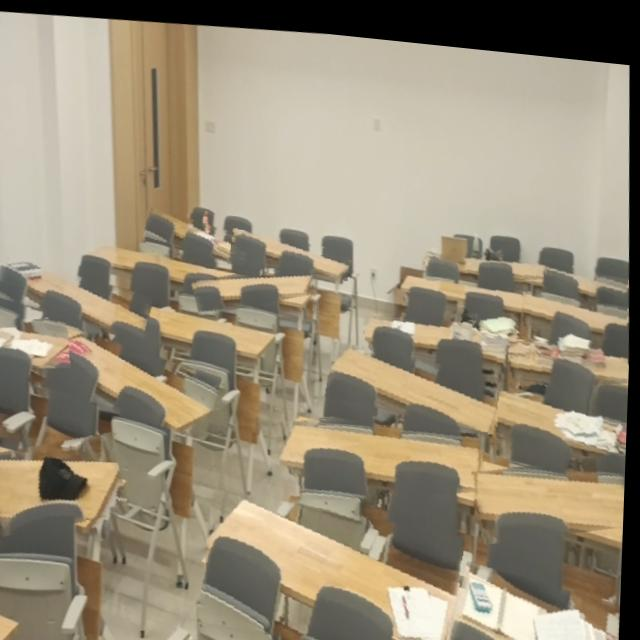Non-empty: (211, 489, 460, 640), (40, 328, 216, 427), (458, 551, 623, 640), (2, 261, 150, 328), (501, 381, 628, 442), (0, 455, 121, 517), (367, 307, 518, 340), (148, 208, 249, 257), (512, 329, 631, 368), (0, 322, 71, 367), (428, 244, 546, 268)
empty: (332, 335, 499, 422), (282, 414, 484, 480), (482, 461, 628, 510), (401, 266, 534, 303), (234, 228, 351, 270), (523, 282, 628, 324), (199, 269, 315, 298), (545, 251, 627, 288)
